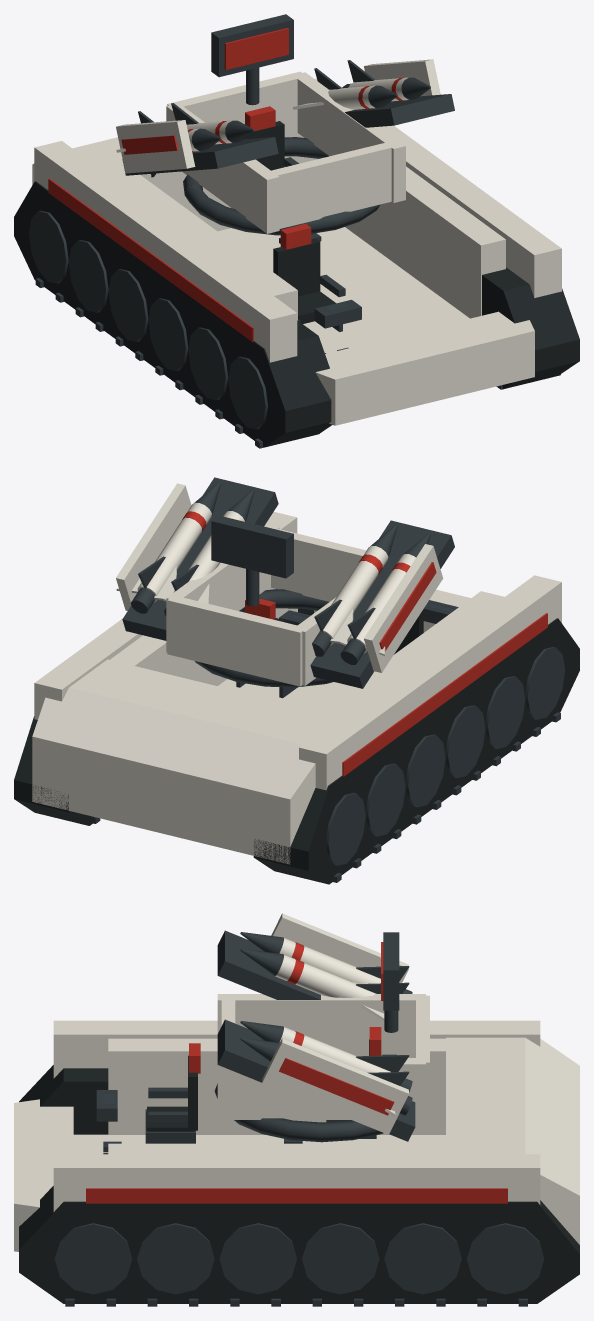
3 views of the same model, one above another, from view 1: azimuth 30°, elevation 25°; view 2: azimuth 150°, elevation 25°; view 3: azimuth 270°, elevation 25° (orthographic). The views are drawn at different scales.
Parts seen in each view (by area): view 1: aa-tank-fleet-armor, aa-tank-fleet-rubber, turret-fleet-armor, aa-tank-fleet-machine, crew-chair-driver-painted, aa-tank-fleet-red, launcher-left-fleet-armor, radar-fleet-machine, launcher-right-fleet-machine, launcher-left-fleet-machine, radar-fleet-red, crew-chair-gunner-painted (+7 smaller); view 2: aa-tank-fleet-armor, aa-tank-fleet-rubber, aa-tank-fleet-machine, turret-fleet-armor, launcher-left-fleet-machine, radar-fleet-machine, launcher-right-fleet-machine, aa-tank-fleet-red, launcher-left-fleet-armor, launcher-right-fleet-armor, loaded-missile-1-0.2-fleet-armor, loaded-missile--1-0.2-fleet-armor (+9 smaller); view 3: aa-tank-fleet-armor, aa-tank-fleet-rubber, aa-tank-fleet-machine, turret-fleet-armor, aa-tank-fleet-red, launcher-right-fleet-armor, crew-chair-driver-painted, launcher-left-fleet-machine, launcher-right-fleet-machine, launcher-left-fleet-armor, loaded-missile--1-0.2-fleet-armor, launcher-right-fleet-red (+8 smaller).
Boxes of the visible parts, bbox=[...] form: aa-tank-fleet-armor: bbox=[32, 78, 561, 425]; aa-tank-fleet-rubber: bbox=[14, 181, 579, 447]; turret-fleet-armor: bbox=[166, 71, 405, 233]; aa-tank-fleet-machine: bbox=[28, 137, 560, 448]; crew-chair-driver-painted: bbox=[273, 224, 361, 353]; aa-tank-fleet-red: bbox=[48, 178, 253, 342]; launcher-left-fleet-armor: bbox=[116, 120, 195, 173]; radar-fleet-machine: bbox=[211, 14, 293, 77]; launcher-right-fleet-machine: bbox=[345, 94, 454, 127]; launcher-left-fleet-machine: bbox=[122, 137, 278, 175]; radar-fleet-red: bbox=[224, 28, 288, 69]; crew-chair-gunner-painted: bbox=[244, 106, 321, 243]; aa-tank-fleet-armor: bbox=[32, 512, 561, 864]; aa-tank-fleet-rubber: bbox=[14, 608, 579, 884]; aa-tank-fleet-machine: bbox=[93, 589, 564, 882]; turret-fleet-armor: bbox=[166, 524, 366, 686]; launcher-left-fleet-machine: bbox=[310, 520, 454, 688]; radar-fleet-machine: bbox=[211, 515, 293, 578]; launcher-right-fleet-machine: bbox=[122, 477, 278, 640]; aa-tank-fleet-red: bbox=[342, 613, 547, 776]; launcher-left-fleet-armor: bbox=[364, 544, 443, 672]; launcher-right-fleet-armor: bbox=[116, 483, 191, 610]; loaded-missile-1-0.2-fleet-armor: bbox=[116, 502, 211, 602]; loaded-missile--1-0.2-fleet-armor: bbox=[319, 546, 388, 645]; aa-tank-fleet-armor: bbox=[14, 1020, 579, 1251]; aa-tank-fleet-rubber: bbox=[19, 1065, 579, 1303]; aa-tank-fleet-machine: bbox=[54, 1054, 544, 1306]; turret-fleet-armor: bbox=[217, 994, 429, 1119]; aa-tank-fleet-red: bbox=[86, 1188, 507, 1203]; launcher-right-fleet-armor: bbox=[262, 1038, 408, 1134]; crew-chair-driver-painted: bbox=[96, 1043, 200, 1154]; launcher-left-fleet-machine: bbox=[217, 930, 320, 999]; launcher-right-fleet-machine: bbox=[217, 1019, 415, 1141]; launcher-left-fleet-armor: bbox=[271, 913, 408, 982]; loaded-missile--1-0.2-fleet-armor: bbox=[275, 954, 384, 1021]; launcher-right-fleet-red: bbox=[279, 1058, 394, 1115].
Bounding box in the file's own units: 21.39 × 18.35 × 33.68.
